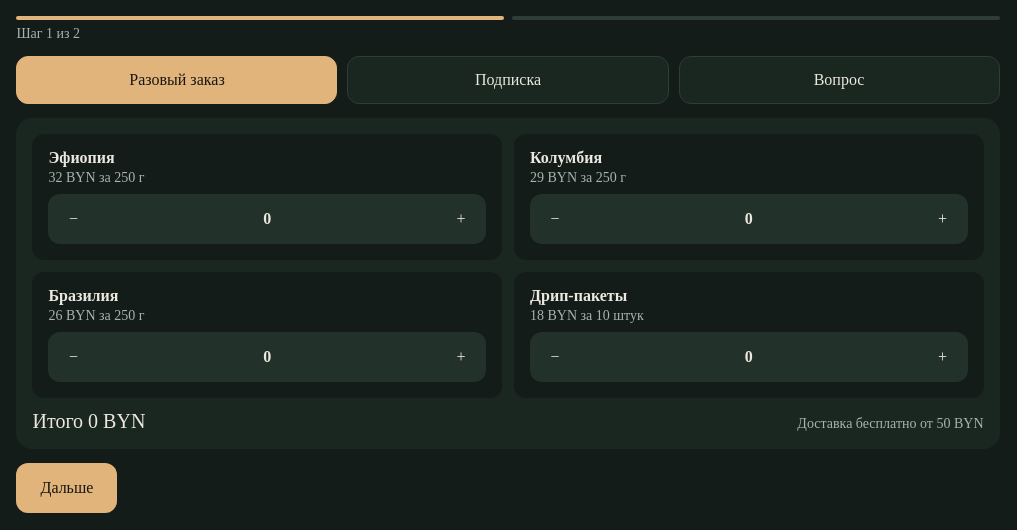
Test case: шаг 1 › один сорт подписки это две пачки его
Step 1. Click the button "Подписка" → (508, 80), box top-left (348, 56), bottom-right (668, 104)
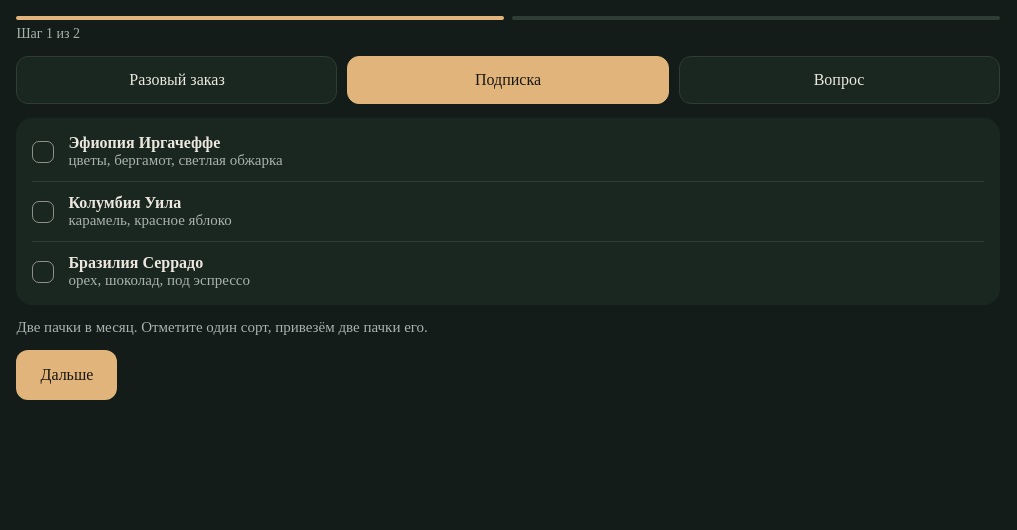
Step 2. Click the checkbox labelled "Бразилия Серрадо орех, шоколад, под эспрессо" → (44, 272), box top-left (32, 261), bottom-right (54, 283)
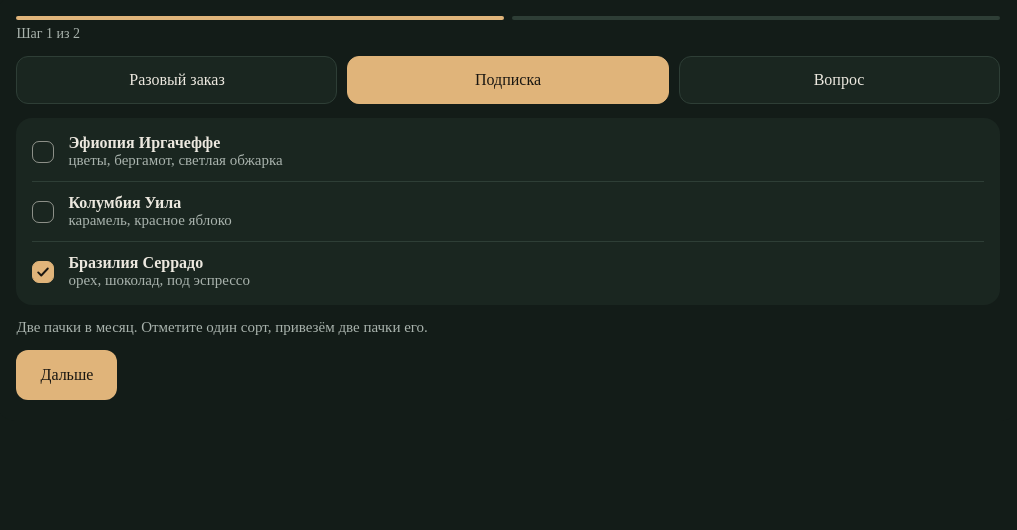
Step 3. Click the button "Дальше" → (67, 376), box top-left (16, 350), bottom-right (117, 400)
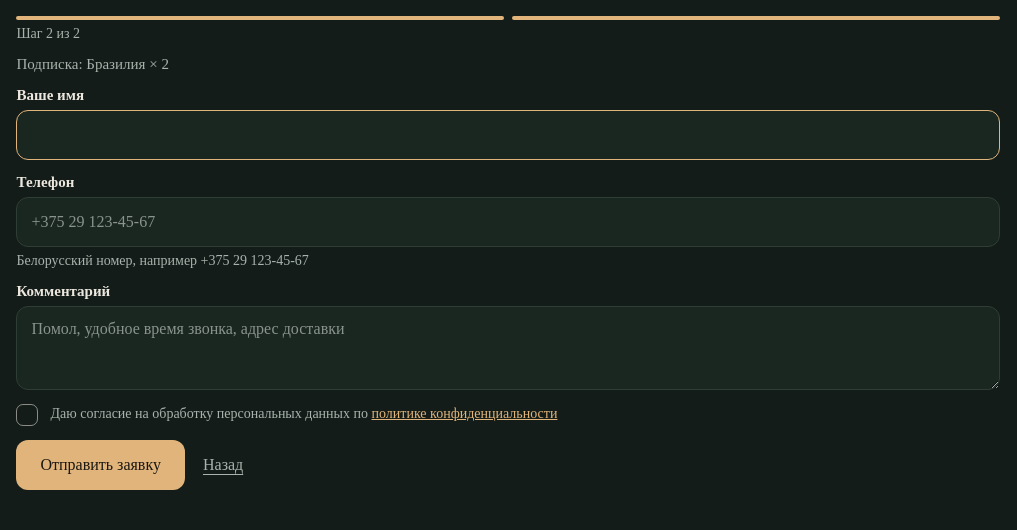
Result: the text "Подписка: Бразилия × 2" is shown at top-left (16, 56), bottom-right (169, 72)
